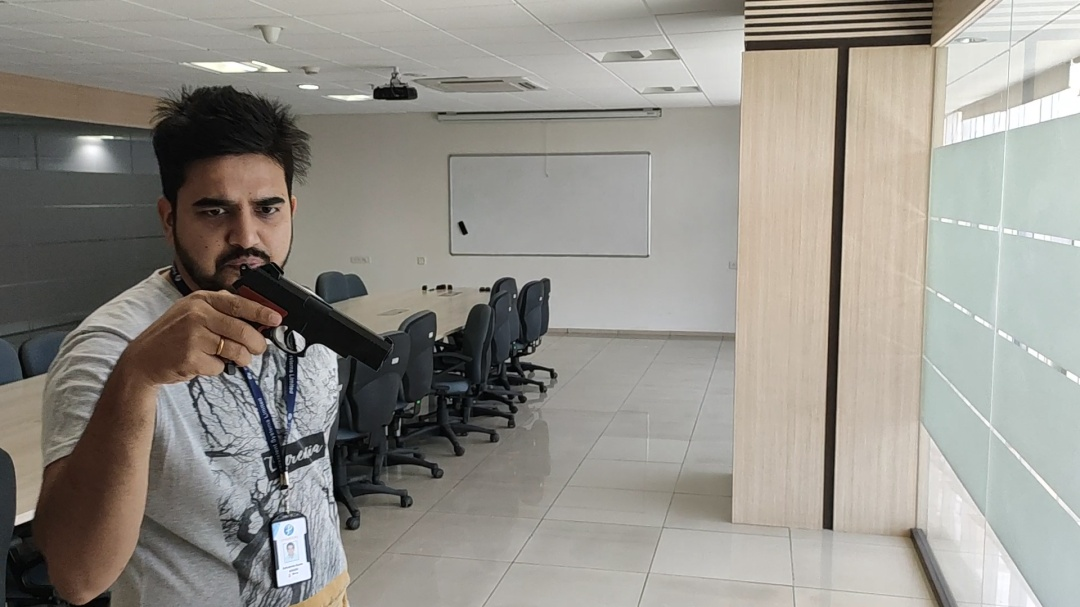gun: (227, 67, 811, 561)
